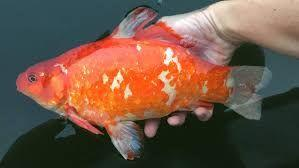Gold Fish: (15, 5, 273, 161)
